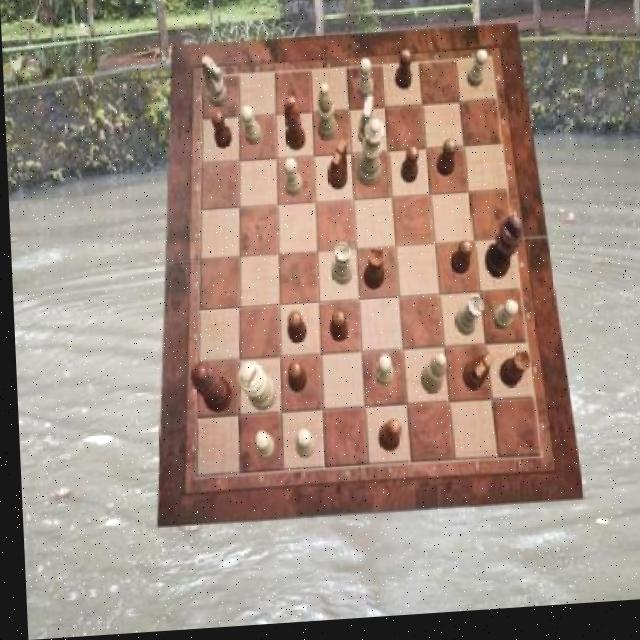bishop: (283, 100, 304, 155), (373, 425, 398, 459)
black-bishop: (480, 221, 521, 286)
black-king: (459, 358, 493, 398), (324, 145, 346, 195)
black-knight: (446, 246, 471, 282), (209, 113, 230, 153), (433, 146, 455, 183), (393, 56, 412, 97), (398, 151, 418, 189), (283, 365, 303, 398), (283, 316, 303, 349), (326, 315, 345, 348)
black-pawn: (186, 363, 229, 417)
black-queen: (494, 358, 529, 395), (359, 253, 383, 295)
black-rook: (313, 88, 335, 146), (416, 361, 444, 402)
white-bishop: (234, 363, 273, 416)
white-king: (201, 58, 226, 111), (355, 99, 377, 152)
white-knight: (465, 56, 489, 95), (238, 110, 260, 149), (355, 64, 374, 106), (490, 308, 516, 338), (281, 162, 300, 200), (290, 433, 311, 463), (250, 435, 271, 465), (371, 359, 390, 392)
white-pawn: (354, 123, 386, 192)
white-queen: (451, 301, 482, 343), (328, 247, 351, 291)
